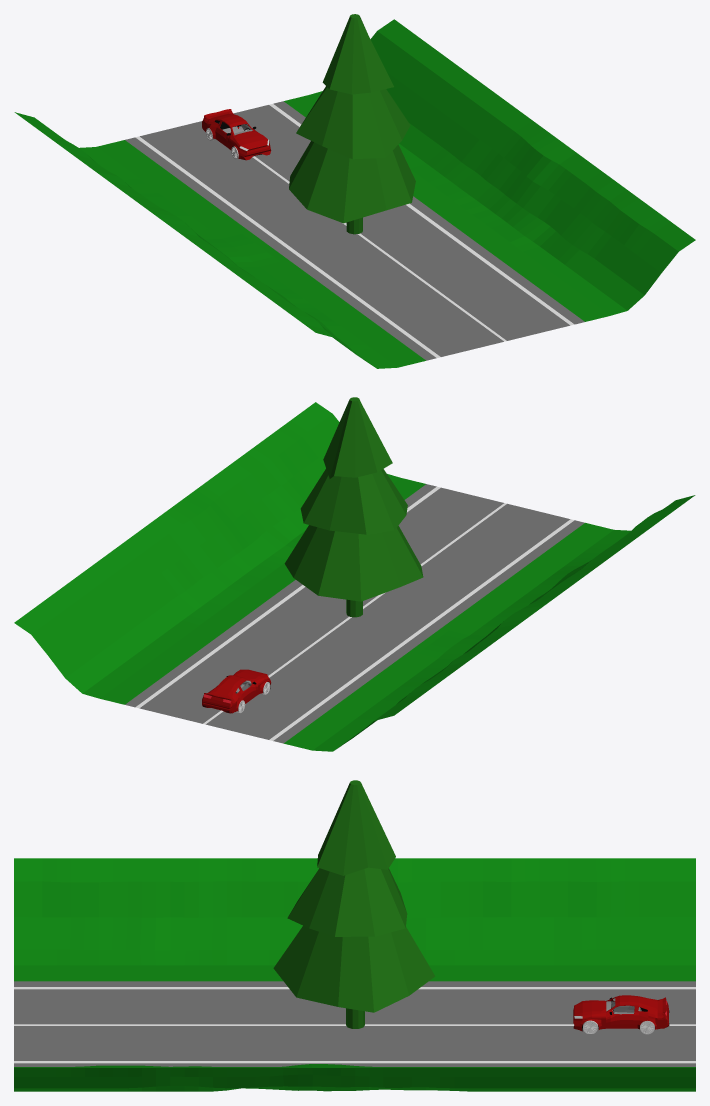
File: mustang rtr.fbx
The picture shows the model from 3 angles, top to bottom: view 1: azimuth 30°, elevation 25°; view 2: azimuth 150°, elevation 25°; view 3: azimuth 270°, elevation 25°; orthographic projection. The views are drawn at different scales.
Visible parts, largest first — view 1: Plane, Cylinder, CarBody; view 2: Plane, Cylinder, CarBody; view 3: Plane, Cylinder, CarBody.
Boxes of the visible parts, <box> form: Plane: <box>14,19,695,368</box>; Cylinder: <box>289,14,415,234</box>; CarBody: <box>202,109,271,160</box>; Plane: <box>14,402,695,751</box>; Cylinder: <box>284,397,423,617</box>; CarBody: <box>202,669,271,713</box>; Plane: <box>14,858,695,1091</box>; Cylinder: <box>273,780,435,1028</box>; CarBody: <box>573,995,669,1031</box>.
Bounding box in the file's own units: 3837 × 2209 × 5272.
